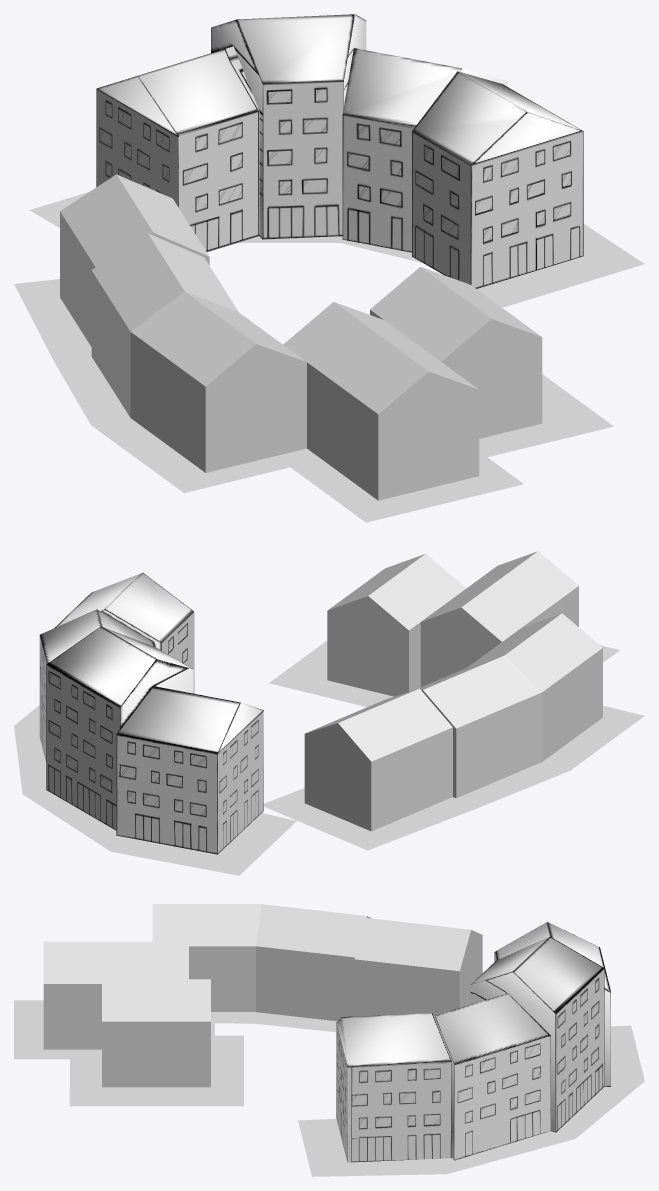
3 renders of one model, top to bottom at view 1: azimuth 30°, elevation 25°; view 2: azimuth 150°, elevation 25°; view 3: azimuth 270°, elevation 25°, orthographic. The views are drawn at different scales.
Parts seen in each view (by area): view 1: Building_One, Building_Two, Building_Two_Ground, Building_One_Ground; view 2: Building_Two, Building_One, Building_Two_Ground, Building_One_Ground; view 3: Building_Two, Building_One, Building_Two_Ground, Building_One_Ground.
Part boxes in pixels (bbox=[...]): Building_One: bbox=[96, 14, 583, 288]; Building_Two: bbox=[60, 174, 542, 500]; Building_Two_Ground: bbox=[14, 279, 613, 522]; Building_One_Ground: bbox=[29, 192, 644, 307]; Building_Two: bbox=[304, 551, 602, 831]; Building_One: bbox=[39, 573, 263, 854]; Building_Two_Ground: bbox=[263, 641, 644, 850]; Building_One_Ground: bbox=[14, 705, 296, 875]; Building_Two: bbox=[43, 904, 482, 1087]; Building_One: bbox=[336, 922, 610, 1162]; Building_Two_Ground: bbox=[14, 1000, 337, 1106]; Building_One_Ground: bbox=[298, 1025, 644, 1176].
Size of the model in its own units: 7037 by 2221 by 8682.
